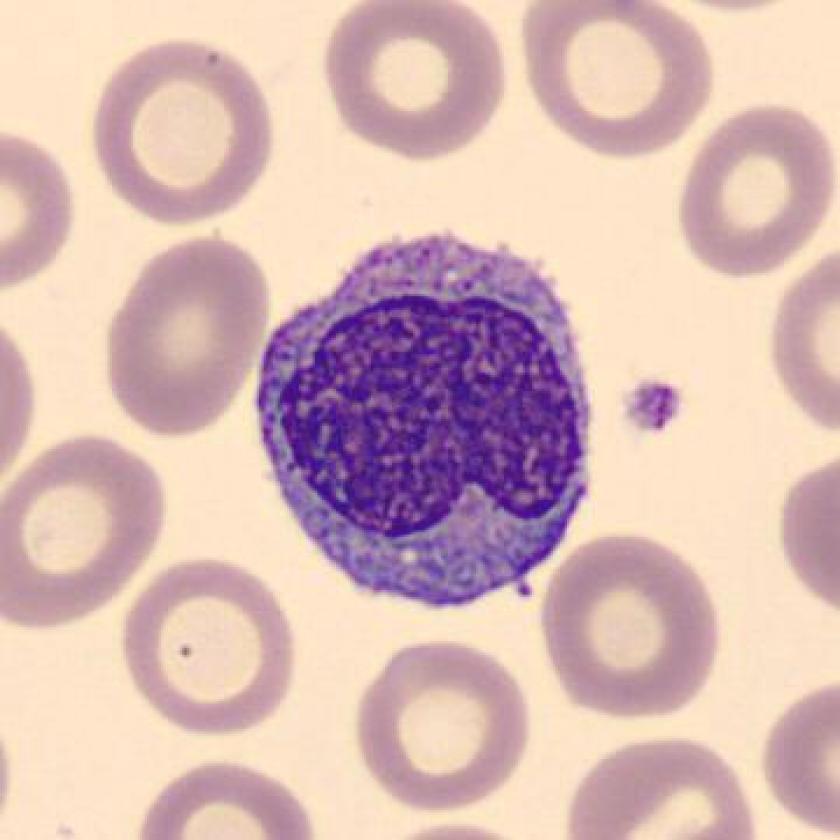monocyte: (239, 207, 617, 626)
